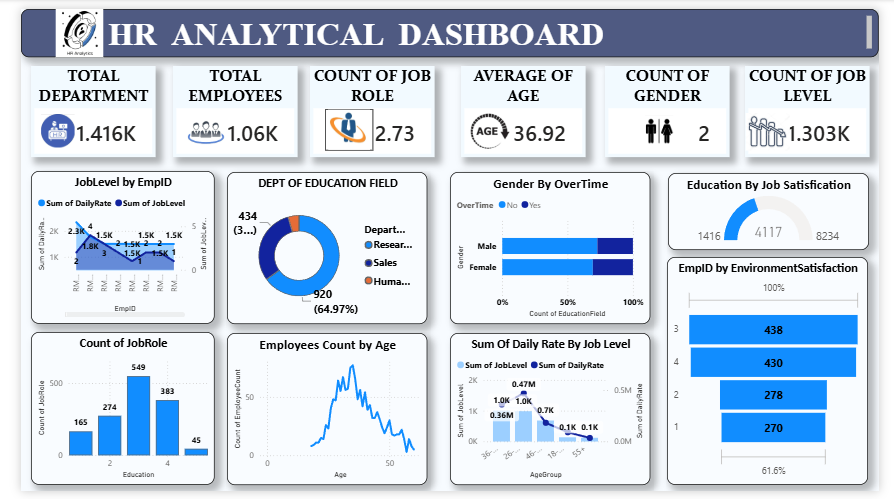

Layout of this report page (visuals, bound fields, positions):
{"tool":"powerbi","page":{"name":"Page 1","canvas":[1280,720],"ordinal":0},"visuals":[{"type":"textbox","box":[0,0,1280.2,72],"z":0},{"type":"cardVisual","title":"TOTAL EMPLOYEES","fields":{"Data":["Avg(HR_Analytics (2).EmployeeNumber)"]},"box":[226.8,85.7,186.5,136.1],"z":1000},{"type":"cardVisual","title":"TOTAL DEPARTMENT","fields":{"Data":["CountNonNull(HR_Analytics (2).Department)"]},"box":[15.1,85.7,186.5,136.1],"z":2000},{"type":"cardVisual","title":"COUNT OF JOB ROLE","fields":{"Data":["Avg(HR_Analytics (2).JobSatisfaction)"]},"box":[431.7,85.7,186.5,136.1],"z":3000},{"type":"cardVisual","title":"AVERAGE  OF AGE","fields":{"Data":["Avg(HR_Analytics (2).Age)"]},"box":[656.8,85.7,186.5,136.1],"z":4000},{"type":"cardVisual","title":"COUNT OF THE GENDER","fields":{"Data":["Count(HR_Analytics (2).Gender)"]},"box":[871.8,85.7,186.5,136.1],"z":5000},{"type":"cardVisual","title":"COUNT OF JOB LEVEL","fields":{"Data":["Count(HR_Analytics (2).MonthlyIncome)"]},"box":[1080.1,85.7,186.5,136.1],"z":6000},{"type":"donutChart","title":"DEPT OF EDUCATION FIELD","fields":{"Category":["HR_Analytics (2).Department"],"Y":["CountNonNull(HR_Analytics (2).EducationField)"]},"box":[307.4,243.6,299,226.8],"z":7000},{"type":"hundredPercentStackedBarChart","title":"Gender By OverTime","fields":{"Category":["HR_Analytics (2).Gender"],"Y":["CountNonNull(HR_Analytics (2).EducationField)"],"Series":["HR_Analytics (2).OverTime"]},"box":[640,243.6,299,226.8],"z":8000},{"type":"lineChart","title":" Employees Count by Age","fields":{"Category":["HR_Analytics (2).EmpID","HR_Analytics (2).Age"],"Y":["CountNonNull(HR_Analytics (2).EmployeeCount)"]},"box":[307.4,483.8,299,226.8],"z":8001},{"type":"areaChart","title":"JobLevel by EmpID","fields":{"Y":["Sum(HR_Analytics (2).DailyRate)"],"Category":["HR_Analytics (2).EmpID"],"Y2":["Sum(HR_Analytics (2).JobLevel)"]},"box":[15.1,241.9,273.8,228.5],"z":8002},{"type":"clusteredColumnChart","title":"Count of JobRole ","fields":{"Category":["HR_Analytics (2).Education"],"Y":["CountNonNull(HR_Analytics (2).JobRole)"]},"box":[15,482,274,228],"z":8003},{"type":"gauge","title":"Education By Job Satisfication","fields":{"Y":["Sum(HR_Analytics (2).Education)"],"MinValue":["CountNonNull(HR_Analytics (2).EducationField)"]},"box":[966.2,244.8,299.5,115.2],"z":8004},{"type":"funnel","title":"EmpID by EnvironmentSatisfaction","fields":{"Category":["HR_Analytics (2).EnvironmentSatisfaction"],"Y":["CountNonNull(HR_Analytics (2).EmpID)"]},"box":[964.8,370.1,299.5,339.8],"z":8005},{"type":"lineStackedColumnComboChart","title":"Sum Of Daily Roate By Job Level","fields":{"Category":["HR_Analytics (2).AgeGroup"],"Y":["Sum(HR_Analytics (2).JobLevel)"],"Y2":["Sum(HR_Analytics (2).DailyRate)"]},"box":[640,484,299,227],"z":8006},{"type":"image","box":[453.6,149.8,72,61.9],"z":8007},{"type":"image","box":[246.2,154.1,60.5,60.5],"z":8008},{"type":"image","box":[649.4,151.2,100.8,63.4],"z":8009},{"type":"image","box":[907.2,158.4,89.3,44.6],"z":8010},{"type":"image","box":[1080,155.5,67.7,56.2],"z":8011},{"type":"image","box":[0,156.2,109.2,50.4],"z":8012},{"type":"image","box":[42,0,90.7,72.2],"z":8013}]}

Visuals, with their boxes in screenshot pixels (x1, y1, x2, y2), scaled from the page's 1280x720 canvas onto the 894x499 screenshot:
textbox: 0,0,893,50
"TOTAL EMPLOYEES" cardVisual: 158,59,289,154
"TOTAL DEPARTMENT" cardVisual: 11,59,141,154
"COUNT OF JOB ROLE" cardVisual: 302,59,432,154
"AVERAGE  OF AGE" cardVisual: 459,59,589,154
"COUNT OF THE GENDER" cardVisual: 609,59,739,154
"COUNT OF JOB LEVEL" cardVisual: 754,59,885,154
"DEPT OF EDUCATION FIELD" donutChart: 215,169,424,326
"Gender By OverTime" hundredPercentStackedBarChart: 447,169,656,326
" Employees Count by Age" lineChart: 215,335,424,492
"JobLevel by EmpID" areaChart: 11,168,202,326
"Count of JobRole " clusteredColumnChart: 10,334,202,492
"Education By Job Satisfication" gauge: 675,170,884,250
"EmpID by EnvironmentSatisfaction" funnel: 674,256,883,492
"Sum Of Daily Roate By Job Level" lineStackedColumnComboChart: 447,335,656,493
image: 317,104,367,147
image: 172,107,214,149
image: 454,105,524,149
image: 634,110,696,141
image: 754,108,802,147
image: 0,108,76,143
image: 29,0,93,50
